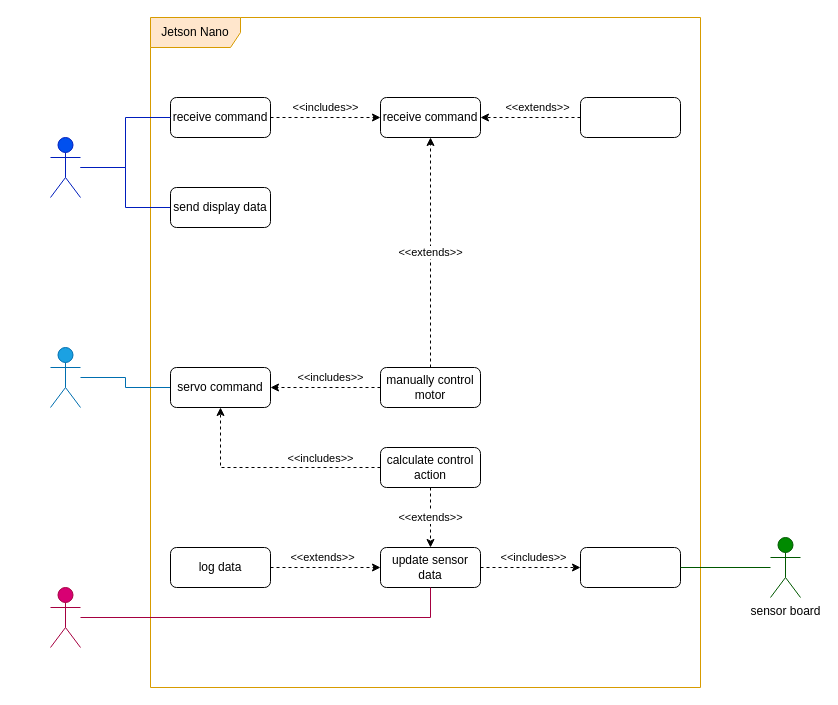
The diagram is 838 pixels wide and 705 high, and some of its shapes have lost their labels. The box of each missing label's shape, as (x1, y1, x2, y2) in pixels:
<<system>> RT Timer: (50, 586, 80, 648)
remote PC: (50, 136, 80, 198)
request sensor data: (580, 546, 680, 588)
servo motor driver: (50, 346, 80, 408)
update controller setpoint: (580, 96, 680, 138)
